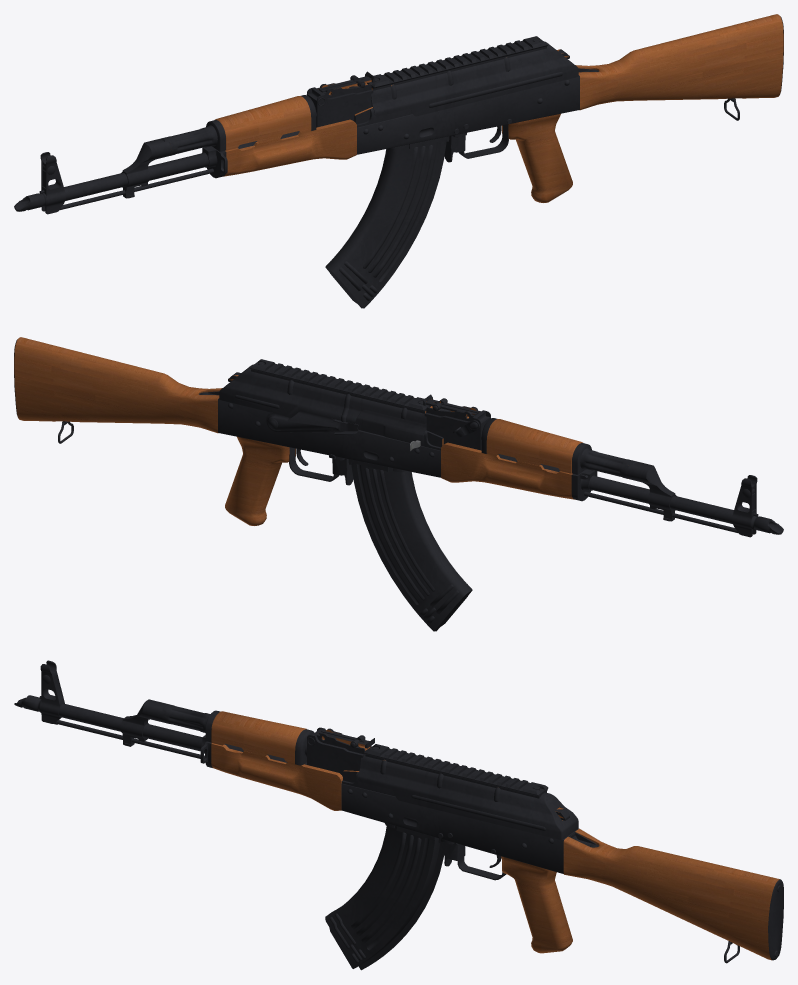
3 renders of one model, top to bottom at view 1: azimuth 30°, elevation 25°; view 2: azimuth 150°, elevation 25°; view 3: azimuth 330°, elevation 25°, orthographic.
Visible parts, largest first — view 1: ak47; view 2: ak47; view 3: ak47.
Boxes of the visible parts, x1=… form: ak47: x1=14, y1=14, x2=783, y2=308; ak47: x1=14, y1=337, x2=783, y2=631; ak47: x1=14, y1=660, x2=783, y2=970.
Size of the model in its own units: 0.88 by 0.2554 by 0.0568.
Materials: 3 (3 with a texture image).
